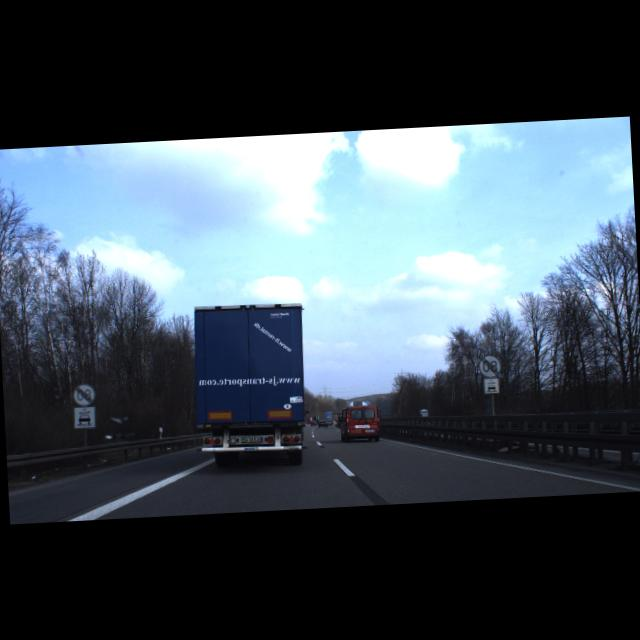other: (479, 354, 502, 378), (73, 383, 96, 406)
